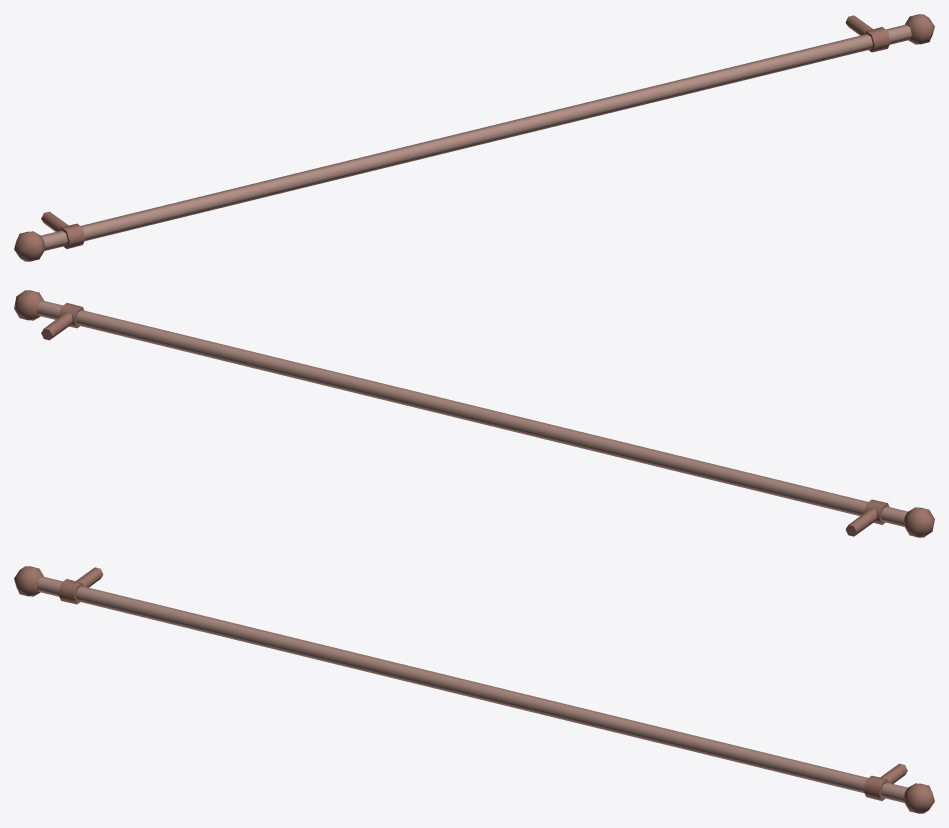
File: Curtains_024.glb
The picture shows the model from 3 angles, top to bottom: view 1: azimuth 30°, elevation 25°; view 2: azimuth 150°, elevation 25°; view 3: azimuth 330°, elevation 25°; orthographic projection.
Visible parts, largest first — view 1: Curtains_024; view 2: Curtains_024; view 3: Curtains_024.
Boxes of the visible parts, bbox=[...] form: Curtains_024: bbox=[14, 14, 934, 261]; Curtains_024: bbox=[14, 290, 934, 537]; Curtains_024: bbox=[14, 566, 934, 813].
Size of the model in its own units: 2.67 by 0.0779 by 0.1672.
1 material, 1 textured.
